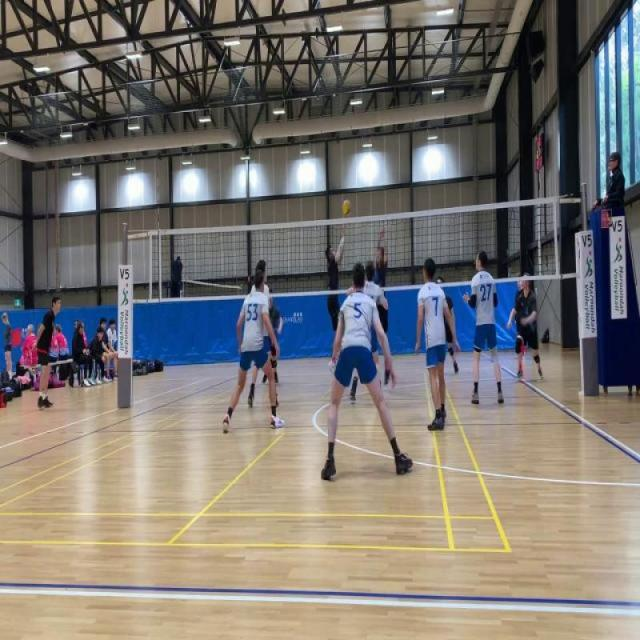volleyball: (342, 197, 352, 218)
